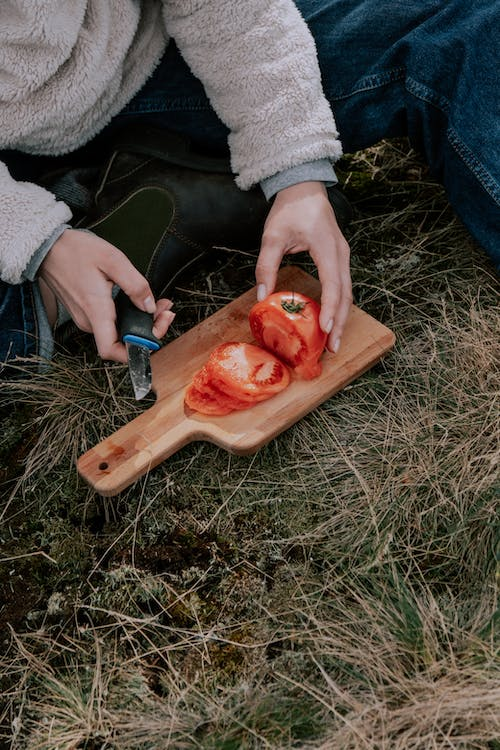knife: (113, 285, 164, 405)
